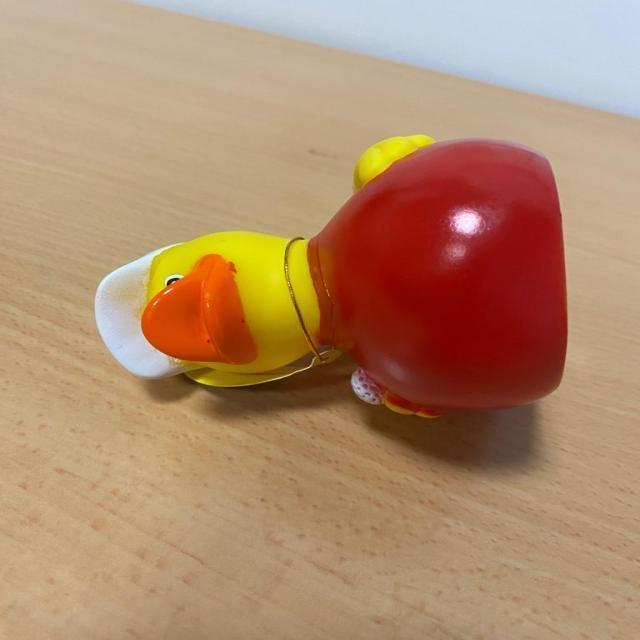rubber-duck: (94, 134, 565, 414)
